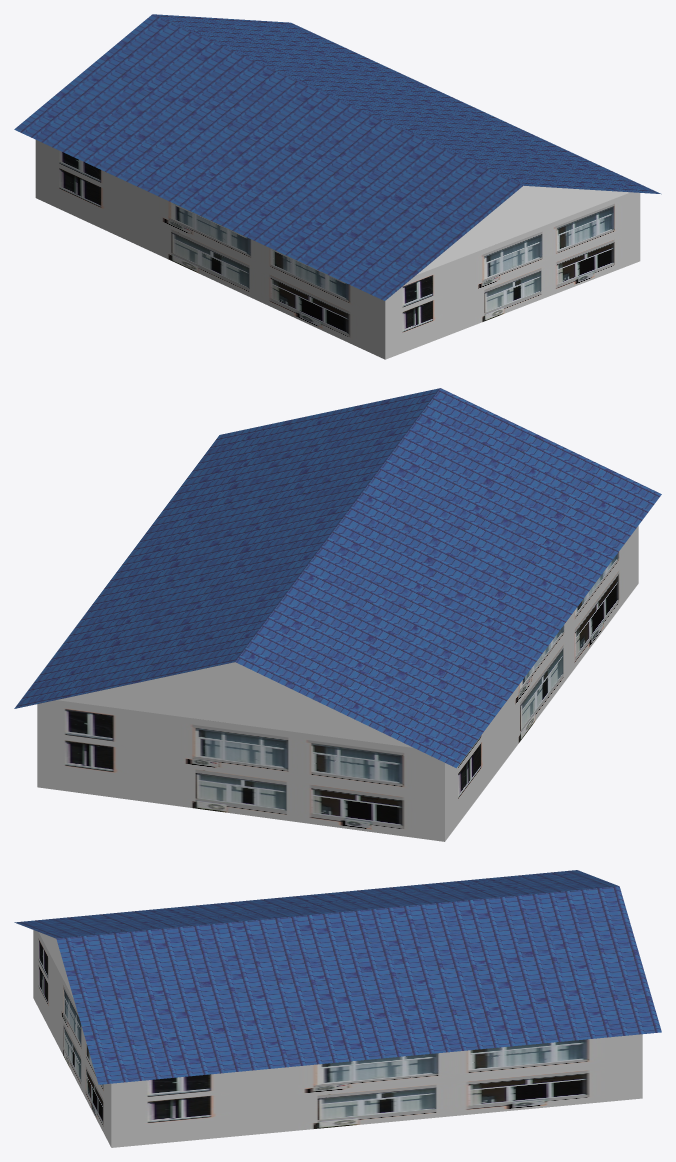
3 views of the same model, one above another, from view 1: azimuth 30°, elevation 25°; view 2: azimuth 150°, elevation 25°; view 3: azimuth 270°, elevation 25° (orthographic). The views are drawn at different scales.
Visible parts, largest first — view 1: CityEngineMaterial_10_m, CityEngineMaterial_9_m, CityEngineMaterial_3_m; view 2: CityEngineMaterial_10_m, CityEngineMaterial_9_m, CityEngineMaterial_3_m; view 3: CityEngineMaterial_10_m, CityEngineMaterial_9_m, CityEngineMaterial_3_m.
Part boxes in pixels (left/top/right/bottom): CityEngineMaterial_10_m: left=14, top=14, right=661, bottom=300; CityEngineMaterial_9_m: left=35, top=140, right=640, bottom=359; CityEngineMaterial_3_m: left=417, top=185, right=629, bottom=274; CityEngineMaterial_10_m: left=14, top=388, right=661, bottom=768; CityEngineMaterial_9_m: left=37, top=526, right=638, bottom=841; CityEngineMaterial_3_m: left=57, top=662, right=413, bottom=747; CityEngineMaterial_10_m: left=14, top=870, right=661, bottom=1084; CityEngineMaterial_9_m: left=33, top=930, right=642, bottom=1147; CityEngineMaterial_3_m: left=38, top=932, right=73, bottom=998.
Size of the model in its own units: 30.81 by 9.09 by 39.27.
